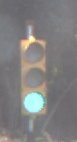Green: (15, 35, 55, 119)
